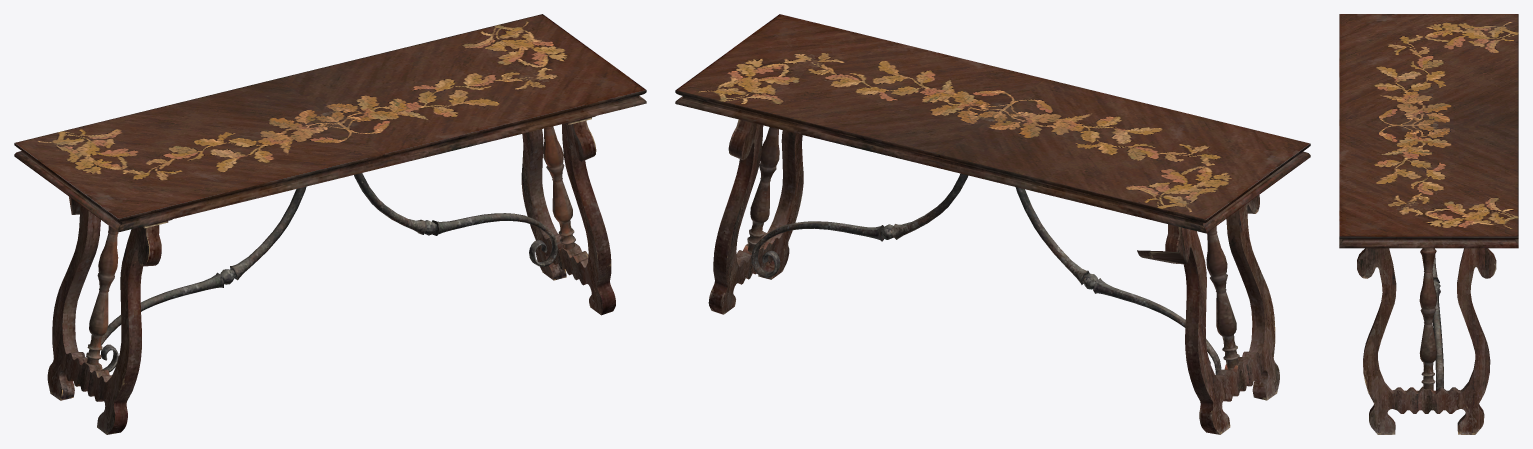
The model's file is 250_librarydesk02a.fbx.
3 views of the same model, side by side, from view 1: azimuth 30°, elevation 25°; view 2: azimuth 150°, elevation 25°; view 3: azimuth 270°, elevation 25° (orthographic). The views are drawn at different scales.
Parts seen in each view (by area): view 1: LOD_1_Group_6_Sub_1__sm30_205_LibraryDesk01A_A_Mat, LOD_1_Group_0_Sub_1__sm30_205_LibraryDesk01A_A_Mat, LOD_1_Group_3_Sub_1__sm30_205_LibraryDesk01A_A_Mat, LOD_1_Group_2_Sub_1__sm30_205_LibraryDesk01A_A_Mat, LOD_1_Group_1_Sub_1__sm30_205_LibraryDesk01A_A_Mat; view 2: LOD_1_Group_6_Sub_1__sm30_205_LibraryDesk01A_A_Mat, LOD_1_Group_0_Sub_1__sm30_205_LibraryDesk01A_A_Mat, LOD_1_Group_3_Sub_1__sm30_205_LibraryDesk01A_A_Mat, LOD_1_Group_1_Sub_1__sm30_205_LibraryDesk01A_A_Mat, LOD_1_Group_2_Sub_1__sm30_205_LibraryDesk01A_A_Mat; view 3: LOD_1_Group_6_Sub_1__sm30_205_LibraryDesk01A_A_Mat, LOD_1_Group_0_Sub_1__sm30_205_LibraryDesk01A_A_Mat, LOD_1_Group_3_Sub_1__sm30_205_LibraryDesk01A_A_Mat, LOD_1_Group_1_Sub_1__sm30_205_LibraryDesk01A_A_Mat.
Part boxes in pixels (bbox=[...]): LOD_1_Group_6_Sub_1__sm30_205_LibraryDesk01A_A_Mat: bbox=[14, 14, 646, 232]; LOD_1_Group_0_Sub_1__sm30_205_LibraryDesk01A_A_Mat: bbox=[47, 121, 615, 434]; LOD_1_Group_3_Sub_1__sm30_205_LibraryDesk01A_A_Mat: bbox=[86, 126, 575, 365]; LOD_1_Group_2_Sub_1__sm30_205_LibraryDesk01A_A_Mat: bbox=[101, 186, 306, 372]; LOD_1_Group_1_Sub_1__sm30_205_LibraryDesk01A_A_Mat: bbox=[354, 173, 557, 266]; LOD_1_Group_6_Sub_1__sm30_205_LibraryDesk01A_A_Mat: bbox=[675, 14, 1310, 233]; LOD_1_Group_0_Sub_1__sm30_205_LibraryDesk01A_A_Mat: bbox=[708, 119, 1279, 434]; LOD_1_Group_3_Sub_1__sm30_205_LibraryDesk01A_A_Mat: bbox=[747, 127, 1239, 369]; LOD_1_Group_1_Sub_1__sm30_205_LibraryDesk01A_A_Mat: bbox=[751, 173, 968, 277]; LOD_1_Group_2_Sub_1__sm30_205_LibraryDesk01A_A_Mat: bbox=[1015, 187, 1221, 374]; LOD_1_Group_6_Sub_1__sm30_205_LibraryDesk01A_A_Mat: bbox=[1339, 14, 1518, 248]; LOD_1_Group_0_Sub_1__sm30_205_LibraryDesk01A_A_Mat: bbox=[1357, 248, 1496, 434]; LOD_1_Group_3_Sub_1__sm30_205_LibraryDesk01A_A_Mat: bbox=[1419, 248, 1436, 391]; LOD_1_Group_1_Sub_1__sm30_205_LibraryDesk01A_A_Mat: bbox=[1432, 248, 1443, 390].
Size of the model in its own units: 1.8 by 0.7655 by 0.614.
